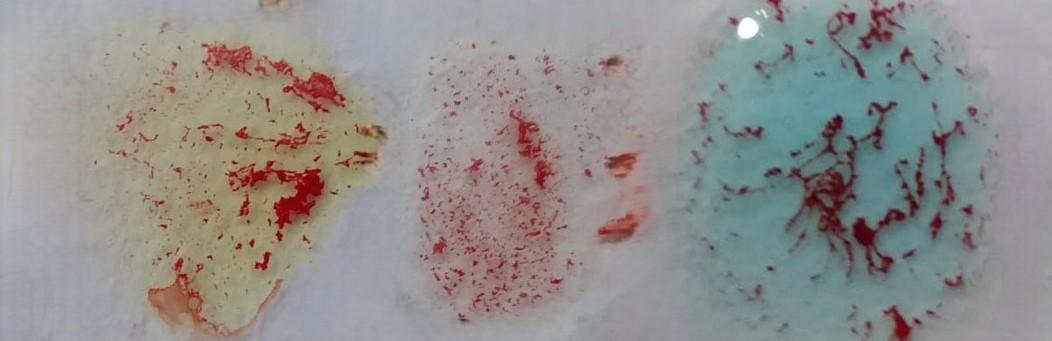A: (690, 0, 1002, 341)
B: (96, 17, 348, 334)
D: (405, 36, 621, 338)
